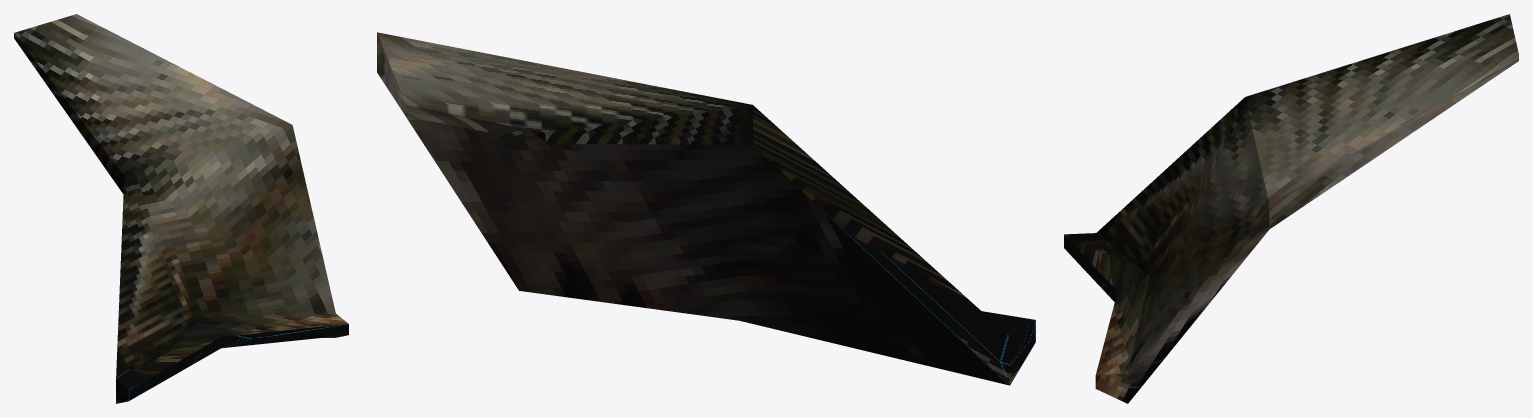
Rendered from g L wing.fbx.
3 renders of one model, left to right at view 1: azimuth 30°, elevation 25°; view 2: azimuth 150°, elevation 25°; view 3: azimuth 270°, elevation 25°, orthographic. The views are drawn at different scales.
Parts seen in each view (by area): view 1: wing_l; view 2: wing_l; view 3: wing_l.
Part boxes in pixels (left/top/right/bottom): wing_l: left=14, top=14, right=348, bottom=403; wing_l: left=377, top=32, right=1035, bottom=385; wing_l: left=1064, top=14, right=1518, bottom=403.
Bounding box in the file's own units: 800 × 723 × 1032.
1 material, 1 textured.
